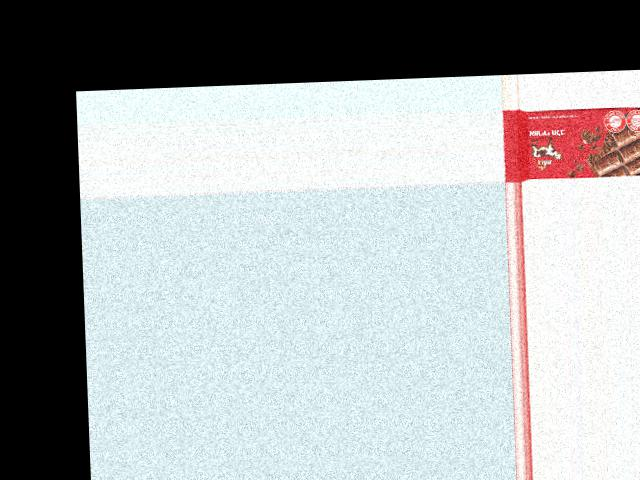chocolate: (504, 103, 640, 181)
